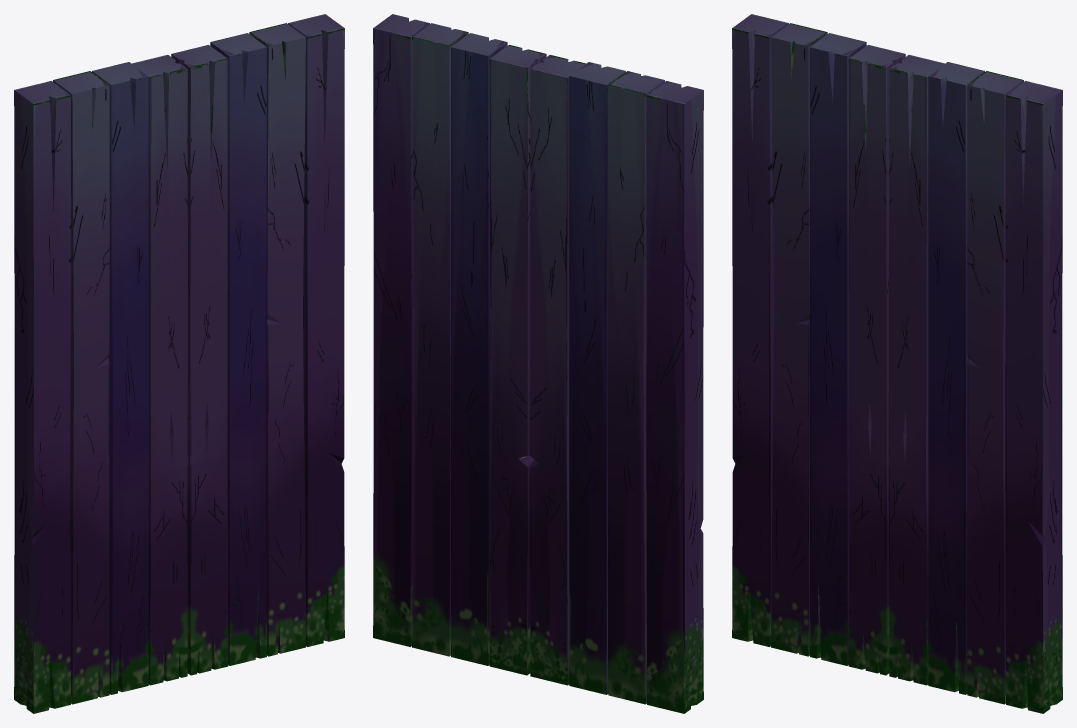
Rendered from PortaDupla.fbx.
The picture shows the model from 3 angles, left to right: view 1: azimuth 30°, elevation 25°; view 2: azimuth 150°, elevation 25°; view 3: azimuth 330°, elevation 25°; orthographic projection.
Parts seen in each view (by area): view 1: PortaDupla; view 2: PortaDupla; view 3: PortaDupla.
Boxes of the visible parts, bbox=[...] form: PortaDupla: bbox=[14, 14, 344, 713]; PortaDupla: bbox=[373, 14, 703, 713]; PortaDupla: bbox=[732, 14, 1062, 713].
Bounding box in the file's own units: 306 × 33.1 × 573.
